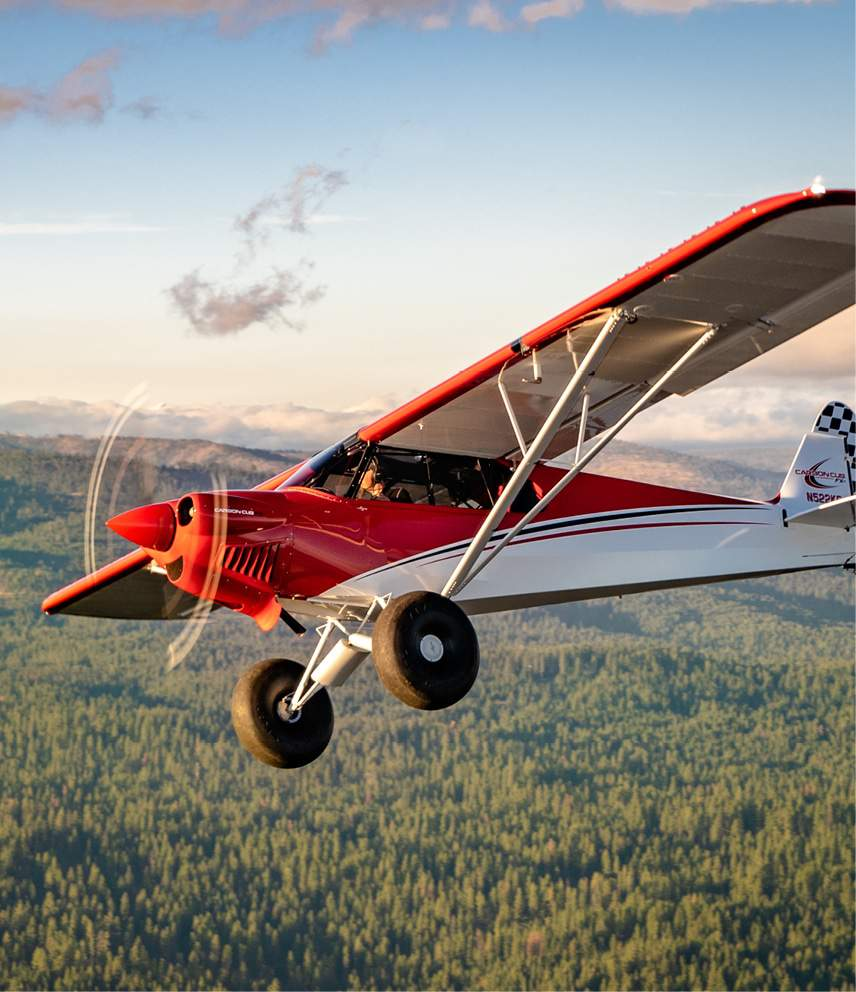Aeronef_de_loisir: (18, 168, 856, 793)
